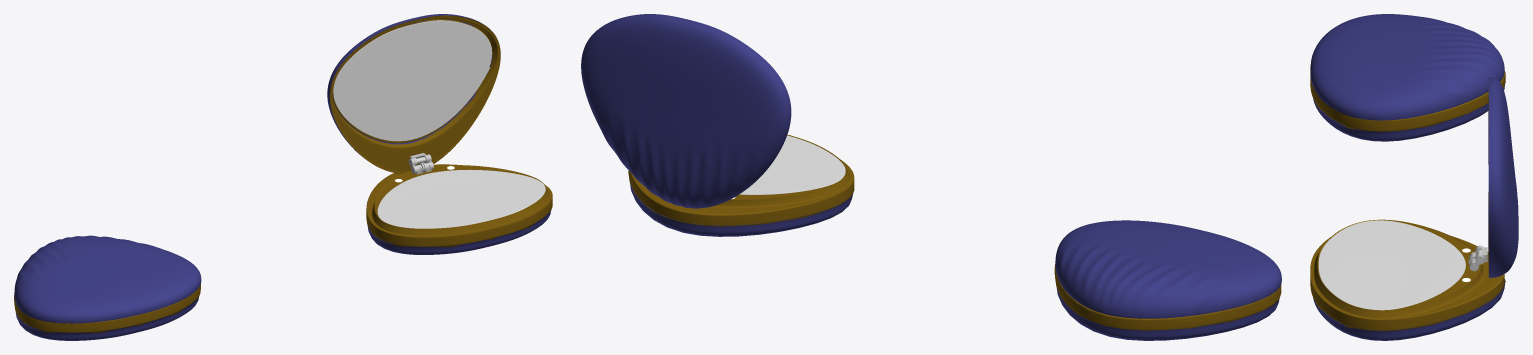
Rendered from Pocket mirror.fbx.
3 renders of one model, left to right at view 1: azimuth 30°, elevation 25°; view 2: azimuth 150°, elevation 25°; view 3: azimuth 270°, elevation 25°, orthographic. The views are drawn at different scales.
Parts seen in each view (by area): view 1: carcass top, size_pocketmirror.001, mirror_bottom.001, carcass top.001, carcass bottom.001, carcass bottom, BezierCurve, carcass bottom.002, carcass top.002; view 2: carcass top.002, carcass top, carcass bottom.001, carcass bottom, mirror_bottom.001, carcass bottom.002; view 3: carcass top, mirror_bottom.001, carcass bottom.001, carcass top.002, carcass bottom, carcass bottom.002, Cylinder.008.
Boxes of the visible parts, x1,y1,x2,y2 form: carcass top: (14, 235, 201, 323); size_pocketmirror.001: (333, 20, 492, 141); mirror_bottom.001: (377, 169, 545, 228); carcass top.001: (330, 15, 500, 173); carcass bottom.001: (366, 164, 552, 246); carcass bottom: (14, 284, 200, 340); BezierCurve: (341, 67, 490, 141); carcass bottom.002: (366, 205, 552, 254); carcass top.002: (327, 14, 492, 155); carcass top.002: (581, 14, 791, 208); carcass top: (1055, 220, 1281, 318); carcass bottom.001: (628, 134, 854, 225); carcass bottom: (1054, 264, 1281, 340); mirror_bottom.001: (739, 135, 845, 194); carcass bottom.002: (628, 171, 854, 236); carcass top: (1310, 14, 1504, 120); mirror_bottom.001: (1318, 220, 1465, 310); carcass bottom.001: (1310, 219, 1504, 330); carcass top.002: (1488, 77, 1518, 277); carcass bottom: (1310, 66, 1505, 141); carcass bottom.002: (1313, 279, 1505, 340); Cylinder.008: (1469, 245, 1487, 271).
Bounding box in the file's own units: 27.57 × 9.05 × 8.21.
